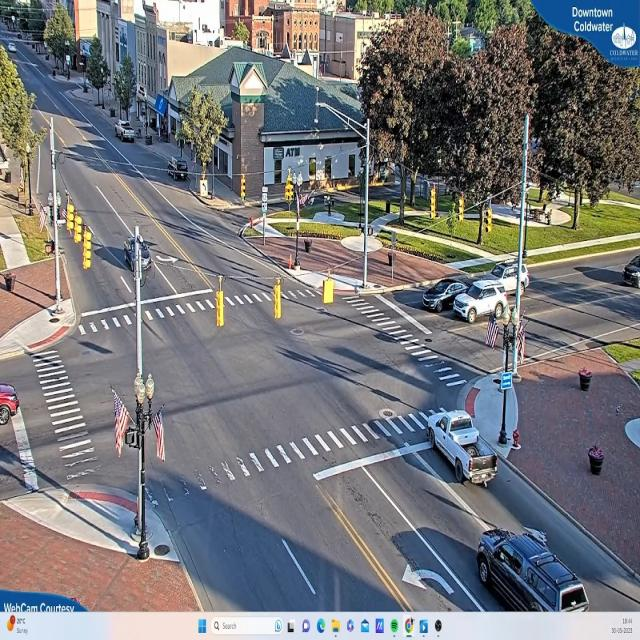car: (478, 526, 590, 610), (429, 410, 500, 486), (453, 286, 510, 324), (476, 263, 530, 297), (422, 280, 475, 312), (1, 384, 22, 424), (117, 121, 138, 143)
